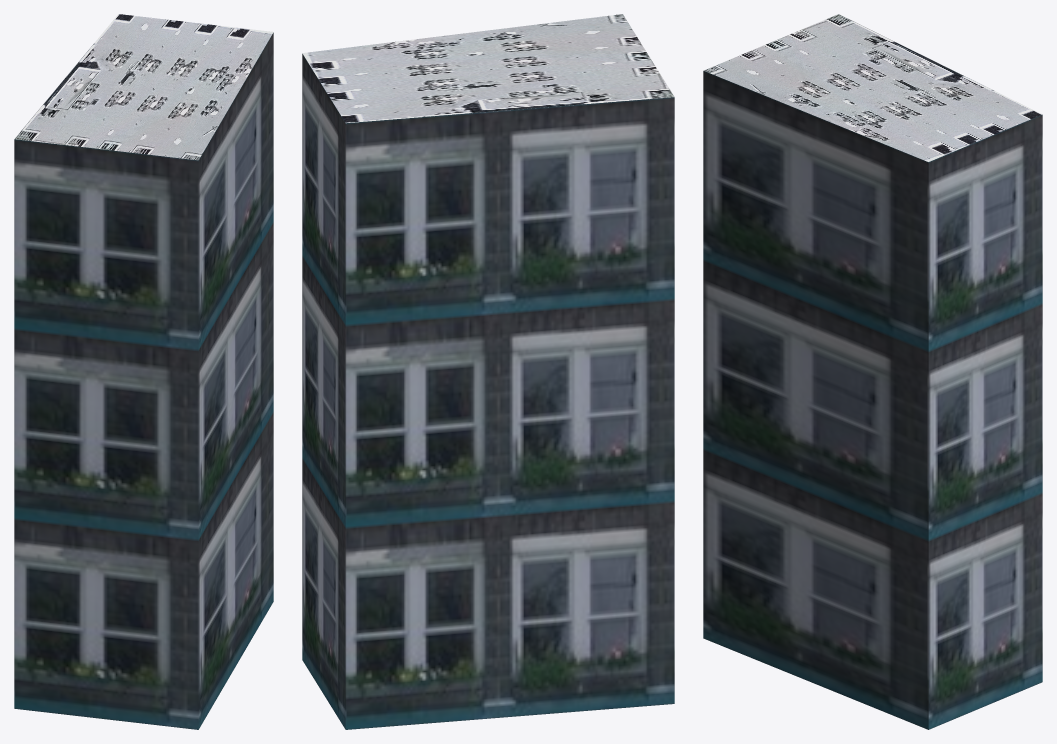
Rendered from ResTex__5129.fbx.
3 renders of one model, left to right at view 1: azimuth 30°, elevation 25°; view 2: azimuth 150°, elevation 25°; view 3: azimuth 270°, elevation 25°, orthographic. The views are drawn at different scales.
Visible parts, largest first — view 1: CityEngineMaterial_11_m, CityEngineMaterial_8_m; view 2: CityEngineMaterial_11_m, CityEngineMaterial_8_m; view 3: CityEngineMaterial_11_m, CityEngineMaterial_8_m.
Part boxes in pixels (x1,y1,x2,y2): CityEngineMaterial_11_m: (14, 32, 273, 729); CityEngineMaterial_8_m: (14, 14, 273, 160); CityEngineMaterial_11_m: (302, 54, 674, 729); CityEngineMaterial_8_m: (302, 14, 674, 123); CityEngineMaterial_11_m: (703, 71, 1042, 729); CityEngineMaterial_8_m: (704, 14, 1042, 161).
Size of the model in its own units: 5.04 by 9 by 4.87.
2 materials, 2 textured.
